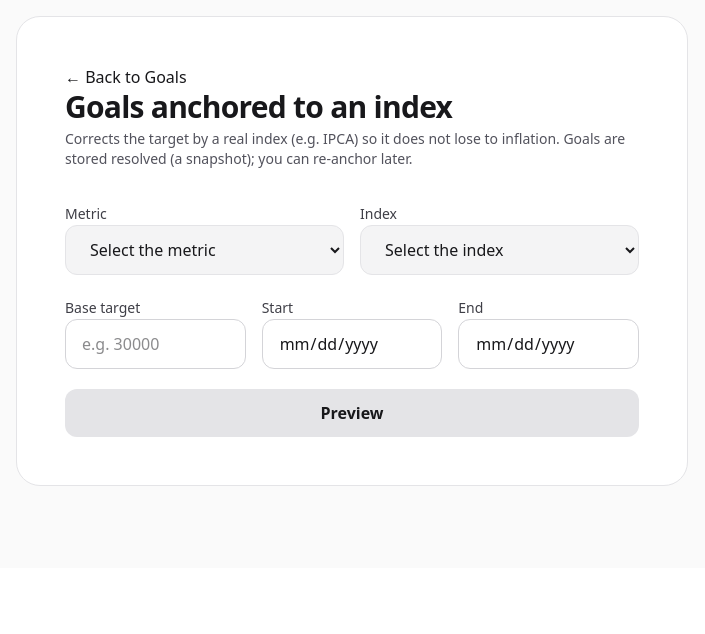
Test: ImportAnchored › mostra a prévia com alvo corrigido
Select "Receita (daily)" in the dropdown named "metric_id" below "Metric" at (204, 250), box [65,225,344,275]
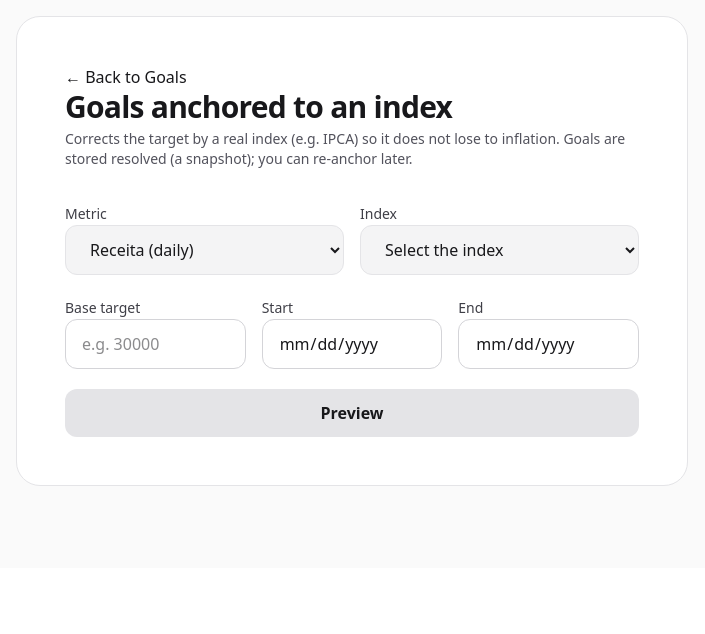
Select "IPCA (inflação)" in the 2nd dropdown named "index_code" at (500, 250), box [360,225,639,275]
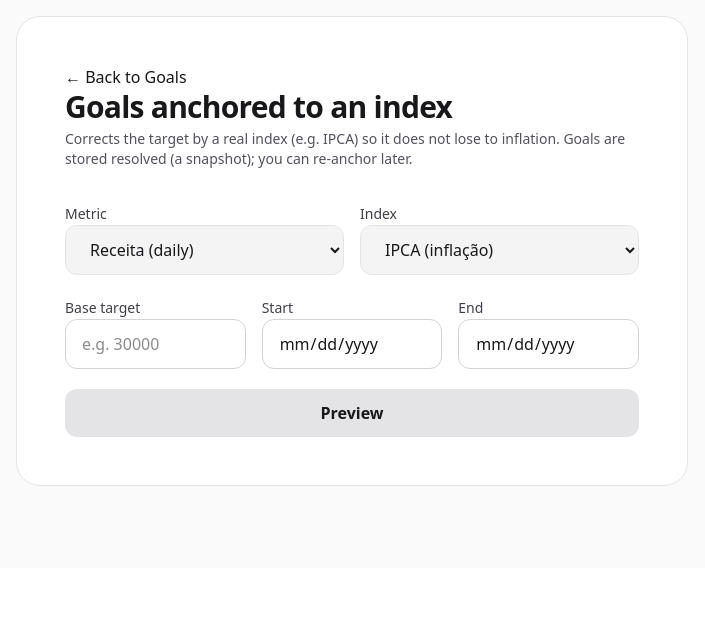
Type "100" into the number field named "alvo_base" at (155, 344), box [65,319,246,369]
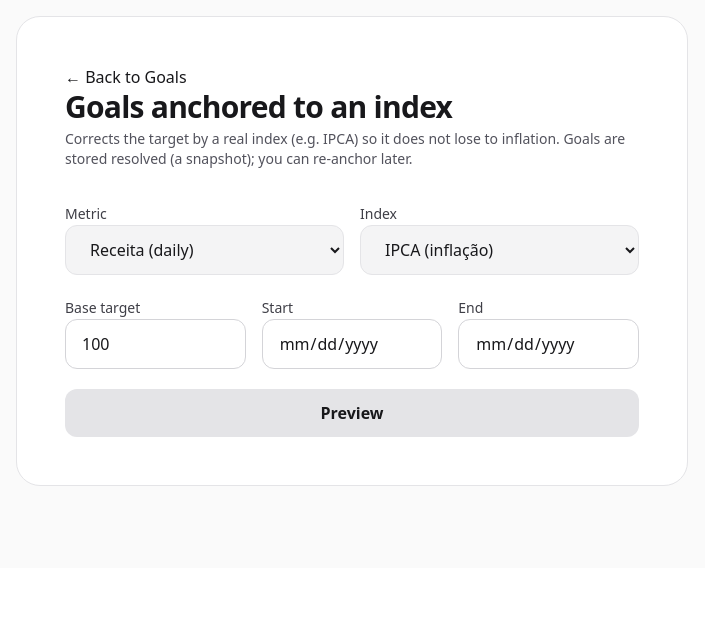
Type "2026-01-01" into the date field named "inicio" below "Start" at (352, 344), box [262,319,442,369]
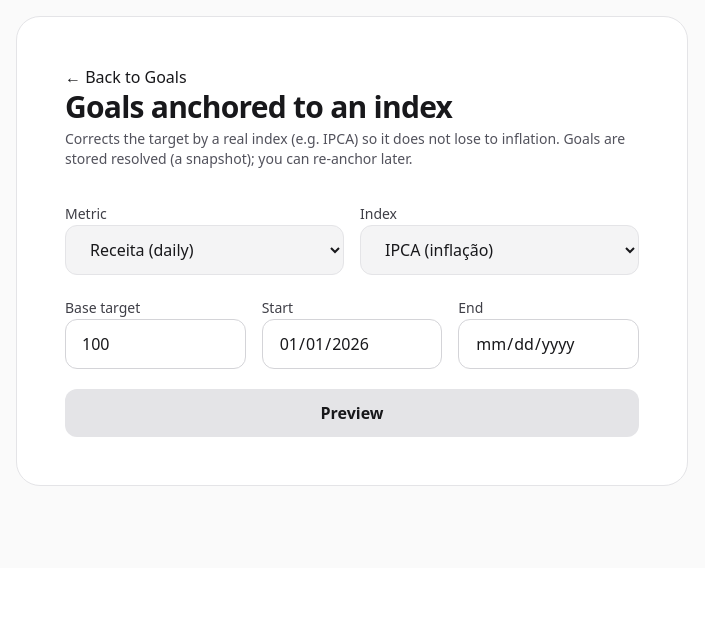
Type "2026-01-02" into the date field named "fim" below "End" at (549, 344), box [458,319,639,369]
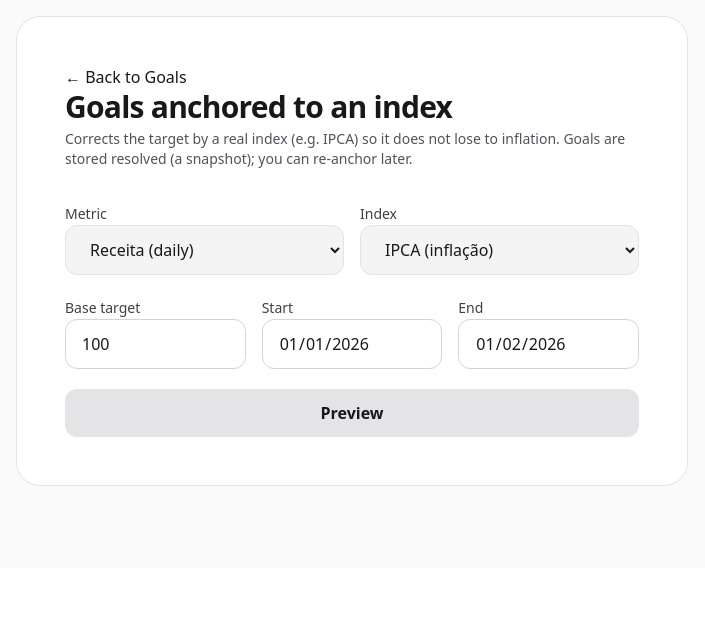
Click the button "Preview" at (352, 413), box [65,389,639,437]
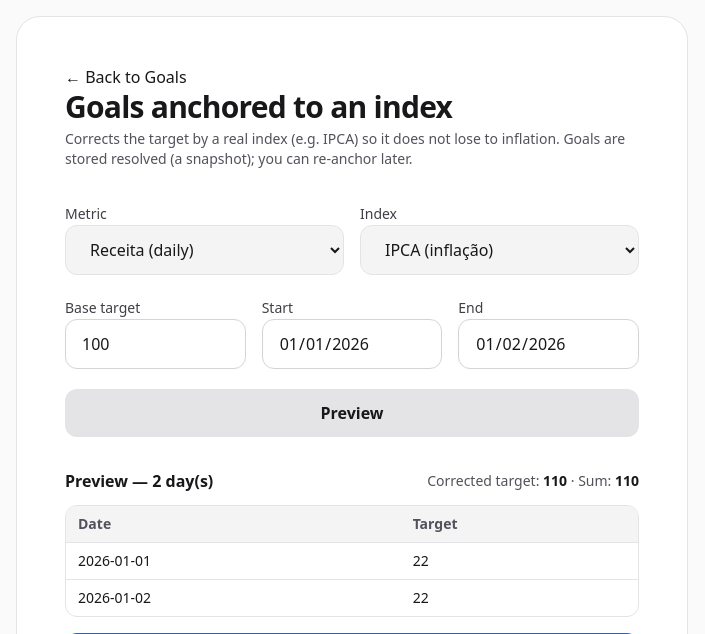
Expected: the heading "Preview — 2 day(s)" is shown, [65,469,213,493]
Expected: the 1st text "110" is shown, [543,471,567,490]
